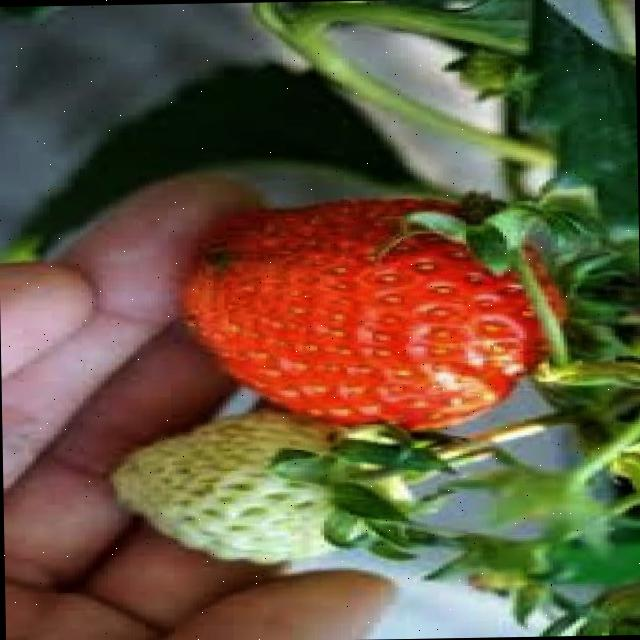strawberry: (174, 192, 554, 434), (109, 406, 339, 565)
